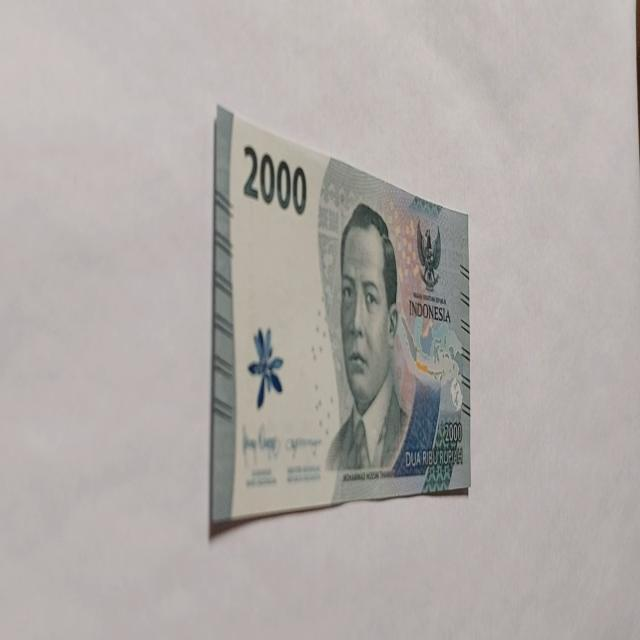dua ribu rupiah: (210, 103, 472, 533), (324, 200, 412, 479)
